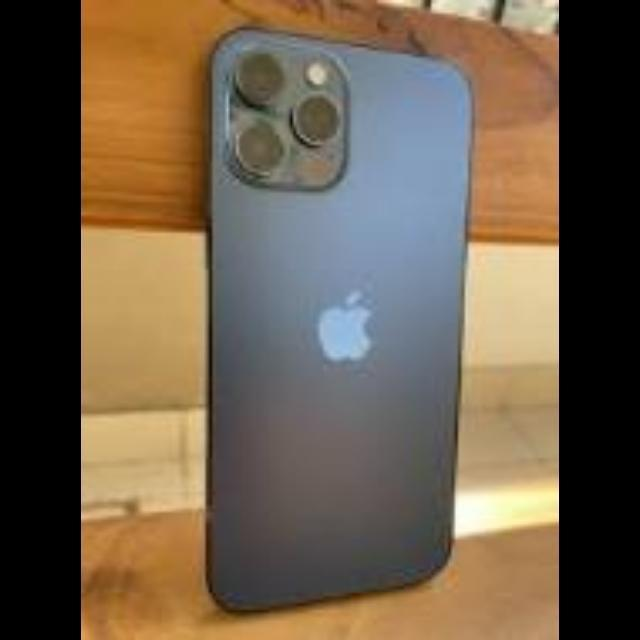PhoneUse: (206, 26, 474, 614)
